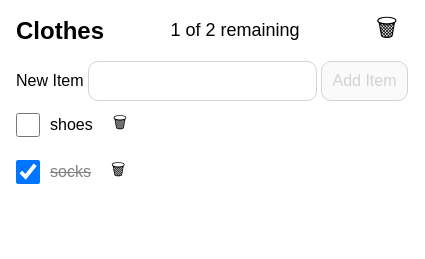
Category › should add an item
Type "t-shirts" into the field with test id "item-input" at (202, 81), box top-left (88, 61), bottom-right (317, 101)
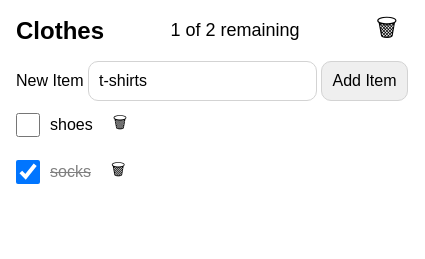
Click the button "Add Item" at (364, 81), box top-left (322, 61), bottom-right (408, 101)
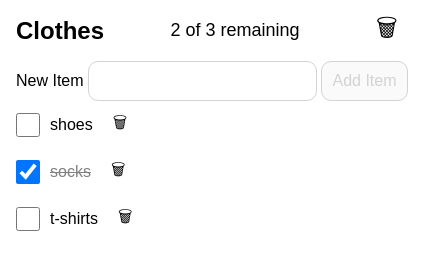
Expected: the number of list items is 3, top-left (16, 101), bottom-right (137, 148); top-left (16, 148), bottom-right (135, 195); top-left (16, 195), bottom-right (142, 242)
